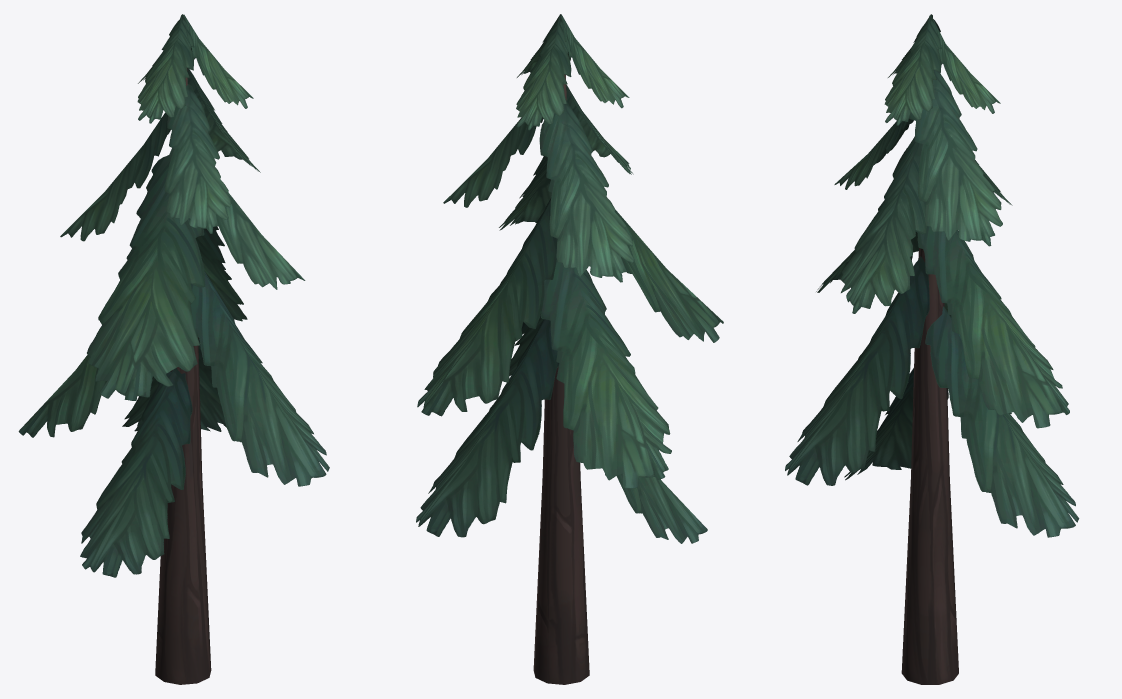
The model's file is Tree6.glb.
3 renders of one model, left to right at view 1: azimuth 30°, elevation 25°; view 2: azimuth 150°, elevation 25°; view 3: azimuth 270°, elevation 25°, orthographic.
Parts seen in each view (by area): view 1: pine_1.001_pine_0; view 2: pine_1.001_pine_0; view 3: pine_1.001_pine_0.
Part boxes in pixels (x1=…): pine_1.001_pine_0: x1=18, y1=14, x2=329, y2=684; pine_1.001_pine_0: x1=416, y1=14, x2=723, y2=684; pine_1.001_pine_0: x1=785, y1=14, x2=1079, y2=684.
Bounding box in the file's own units: 2.13 × 4.8 × 2.32.
Materials: 1 (1 with a texture image).
